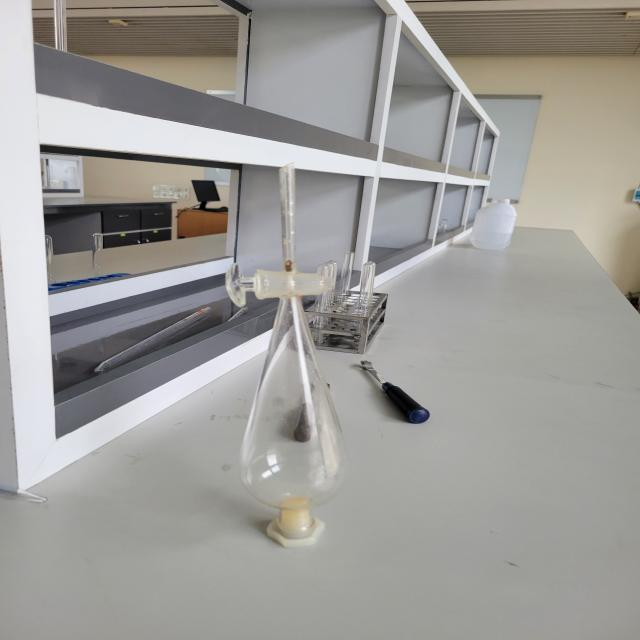Separating_Funnel: (191, 135, 411, 563)
